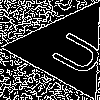U: (40, 24, 100, 80)
